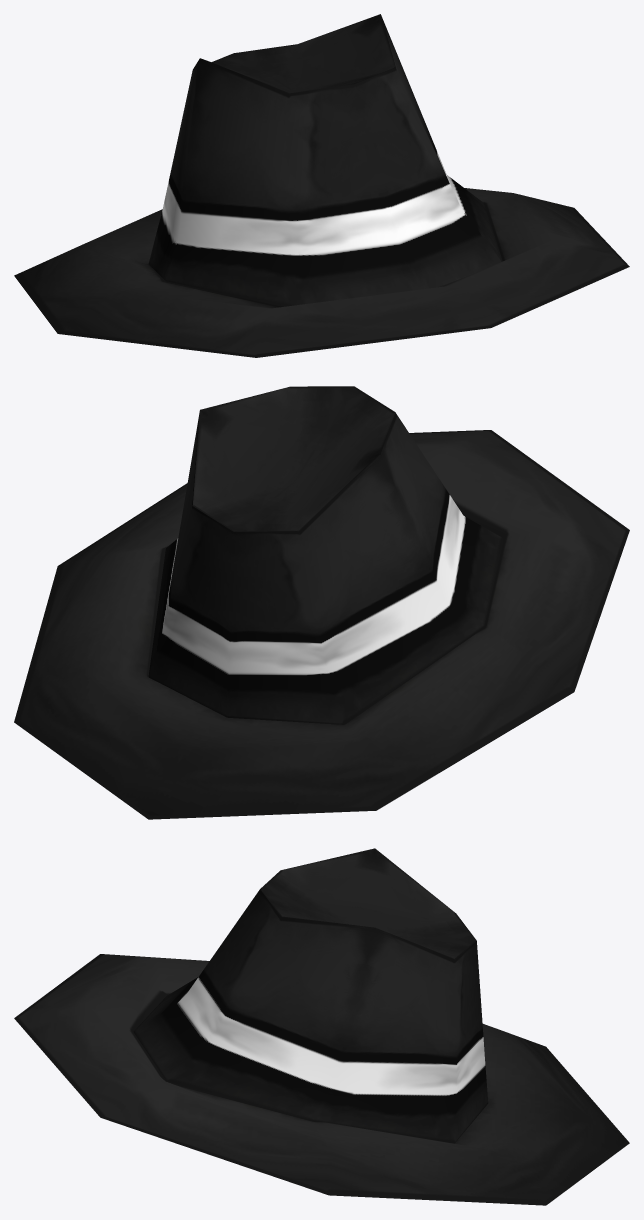
The model's file is kennyhat.fbx.
3 renders of one model, top to bottom at view 1: azimuth 30°, elevation 25°; view 2: azimuth 150°, elevation 25°; view 3: azimuth 270°, elevation 25°, orthographic. The views are drawn at different scales.
Visible parts, largest first — view 1: Plane; view 2: Plane; view 3: Plane.
Part boxes in pixels (x1,y1,x2,y2): Plane: (14, 14, 629, 357); Plane: (14, 386, 629, 819); Plane: (14, 848, 629, 1205).
Bounding box in the file's own units: 133 × 70.02 × 153.
